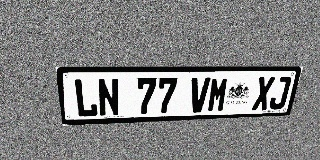7: (156, 78, 178, 114), (136, 78, 157, 115)
J: (268, 76, 292, 110)
L: (73, 79, 98, 118)
M: (207, 77, 230, 112)
N: (97, 78, 120, 117)
V: (188, 77, 211, 113)
X: (251, 77, 275, 110)
